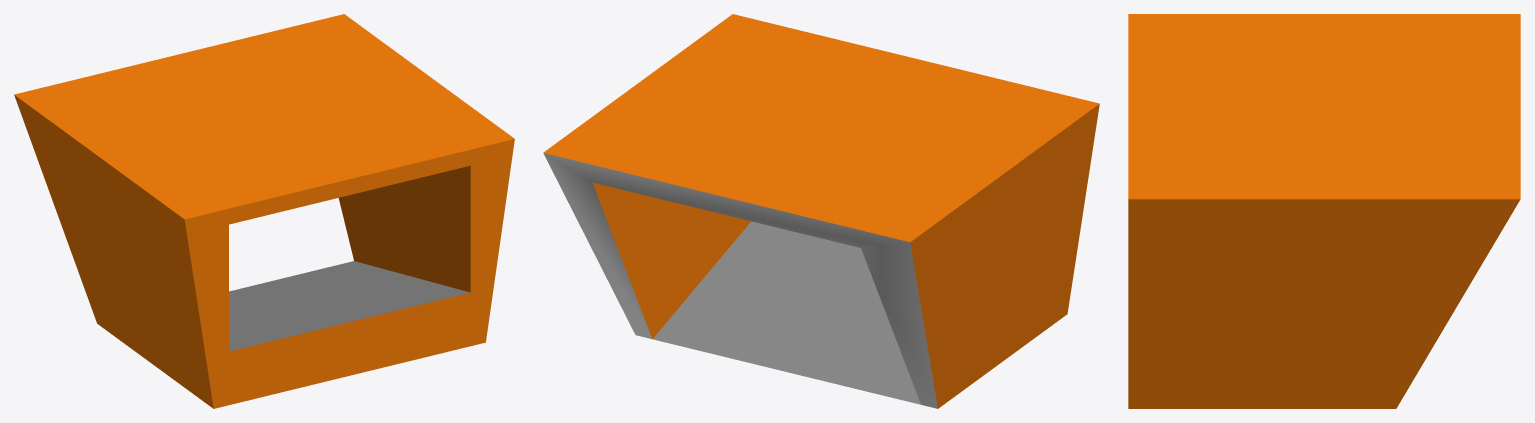
The model's file is CageA_Ramp.fbx.
3 renders of one model, left to right at view 1: azimuth 30°, elevation 25°; view 2: azimuth 150°, elevation 25°; view 3: azimuth 270°, elevation 25°, orthographic. The views are drawn at different scales.
Visible parts, largest first — view 1: CageA_Ramp; view 2: CageA_Ramp; view 3: CageA_Ramp.
Part boxes in pixels (box(x1,y1,x2,y2)): CageA_Ramp: box(14, 14, 514, 408); CageA_Ramp: box(543, 14, 1099, 408); CageA_Ramp: box(1128, 14, 1520, 408).
Bounding box in the file's own units: 861 × 490 × 770.
1 material, 1 textured.
